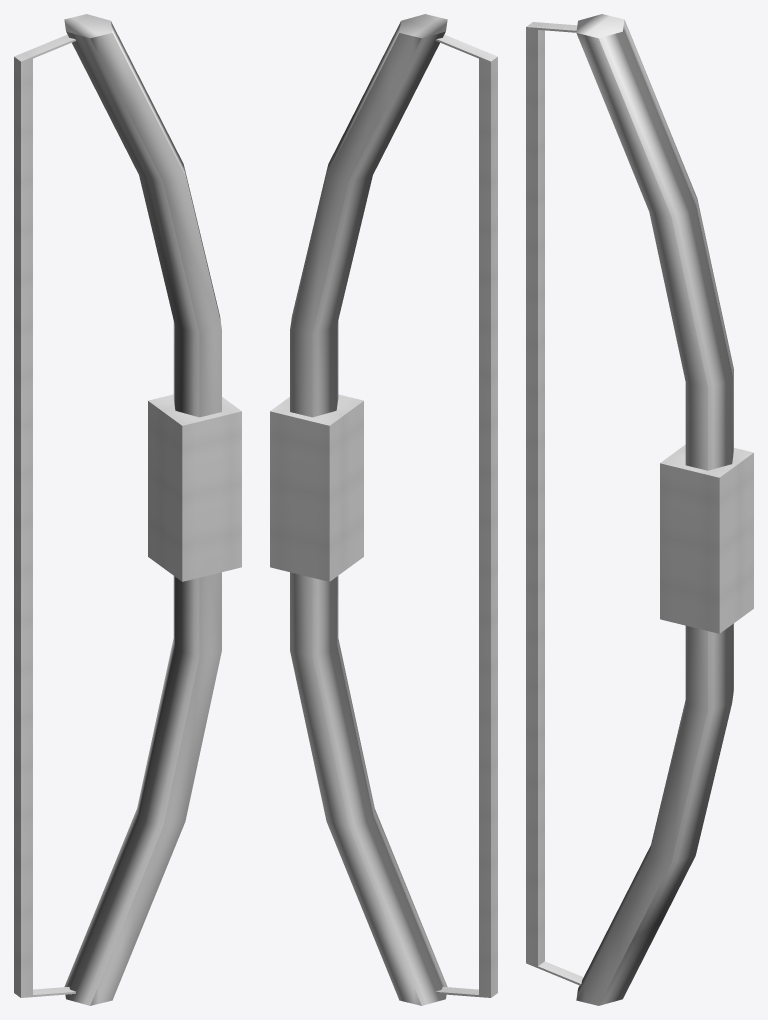
The model's file is bow_short.obj.
3 views of the same model, side by side, from view 1: azimuth 30°, elevation 25°; view 2: azimuth 150°, elevation 25°; view 3: azimuth 330°, elevation 25° (orthographic).
Parts seen in each view (by area): view 1: continuous_bow_limb, string, grip; view 2: continuous_bow_limb, string, grip; view 3: continuous_bow_limb, string, grip.
Part boxes in pixels (left/top/right/bottom): continuous_bow_limb: left=64, top=14, right=221, bottom=1005; string: left=14, top=34, right=75, bottom=997; grip: left=148, top=394, right=241, bottom=581; continuous_bow_limb: left=290, top=14, right=447, bottom=1005; string: left=436, top=34, right=497, bottom=997; grip: left=270, top=394, right=363, bottom=581; continuous_bow_limb: left=576, top=14, right=733, bottom=1005; string: left=526, top=22, right=583, bottom=985; grip: left=660, top=444, right=753, bottom=633.
Size of the model in its own units: 0.139 by 0.62 by 0.04.
